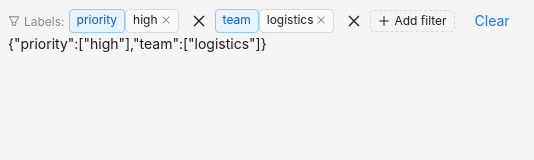
Test: LabelFilterStrip › Clear wipes everything
The image size is (534, 160).
Click the button with test id "label-filter-clear" at coordinates (492, 20), box [467,8,518,32]
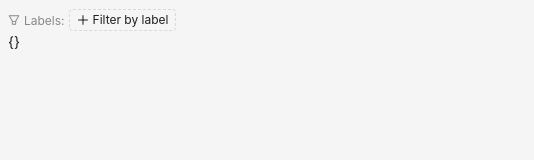
Check: the text with test id "json" reads "{}", box [8,33,20,50]
